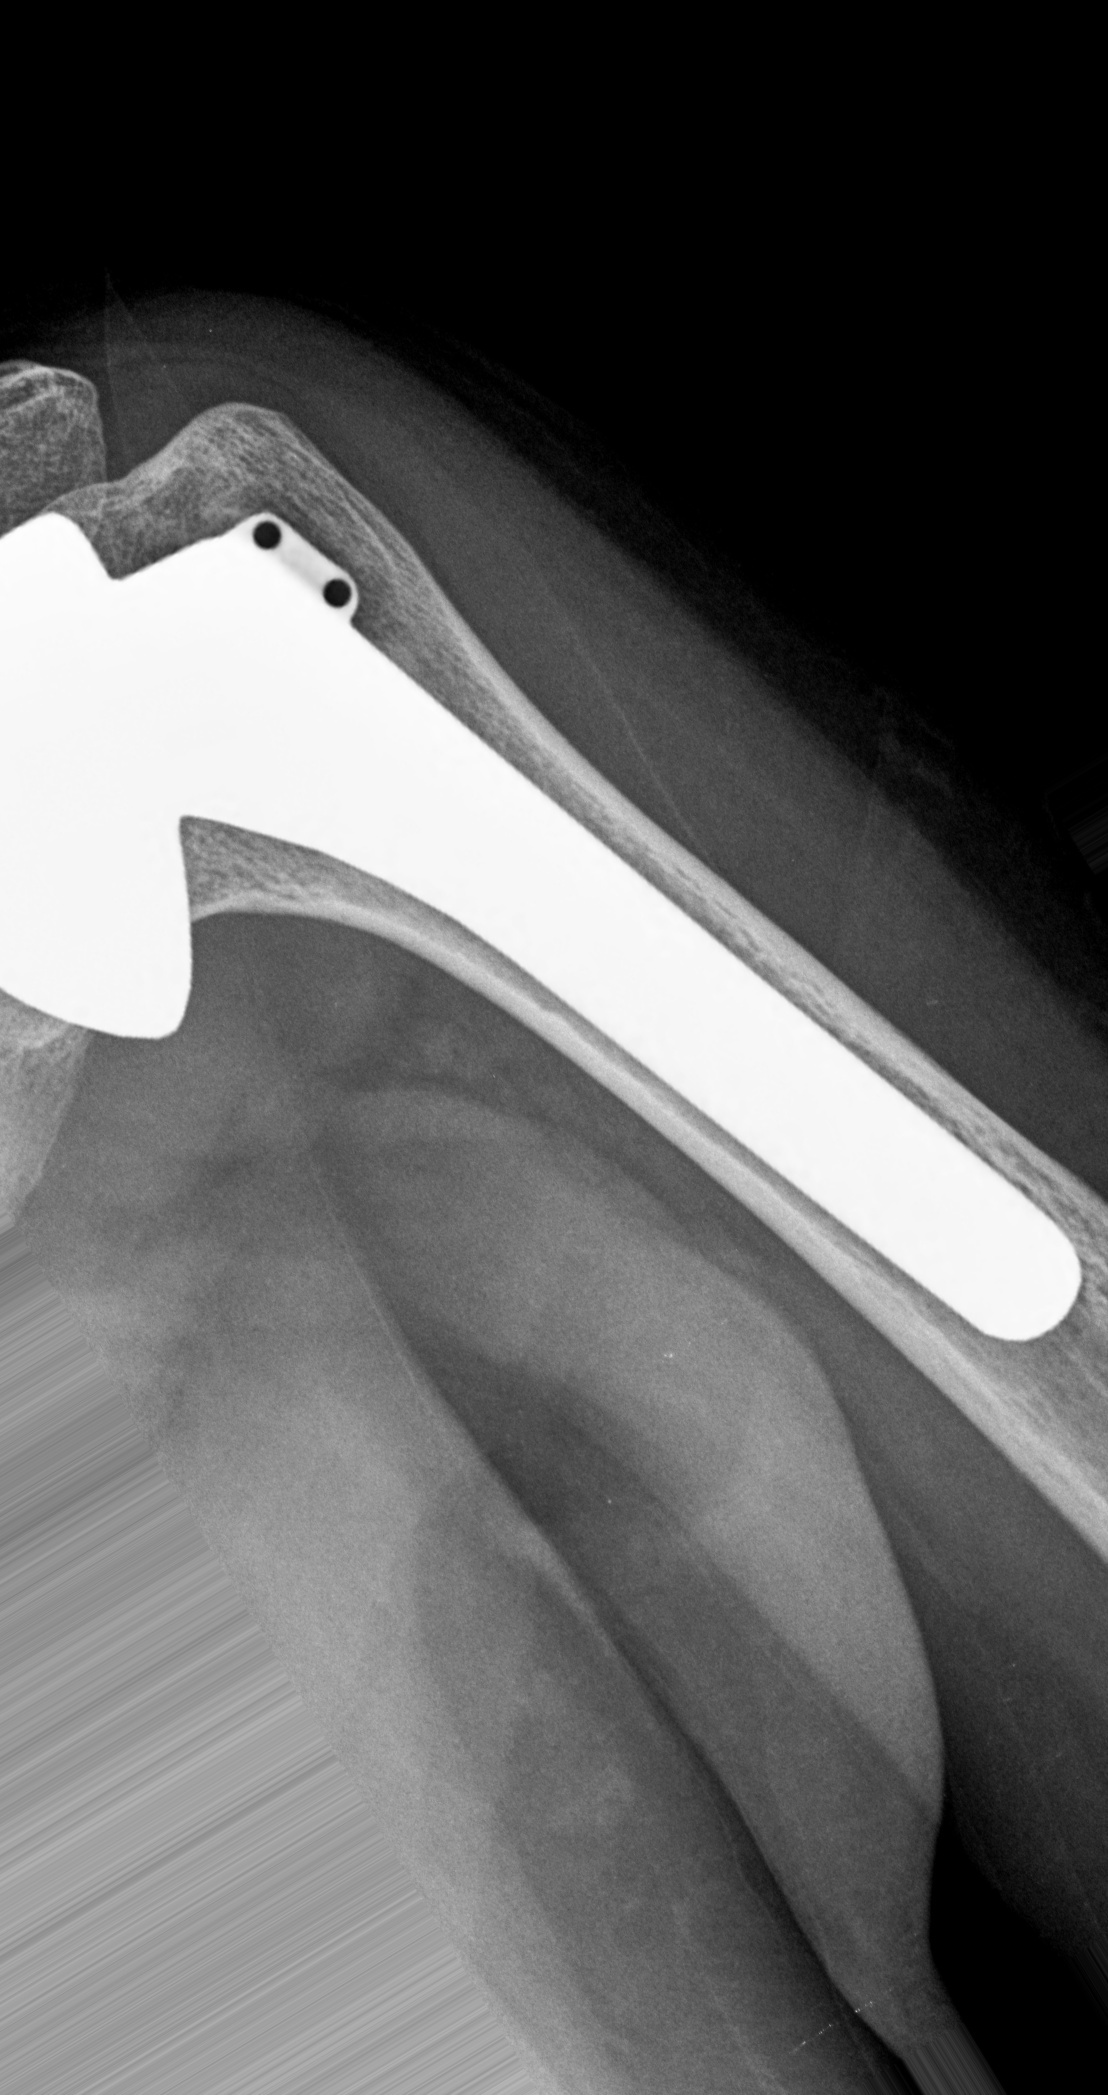Shoulder - AequalisPressfit - Tornier: (1, 463, 381, 1047)
